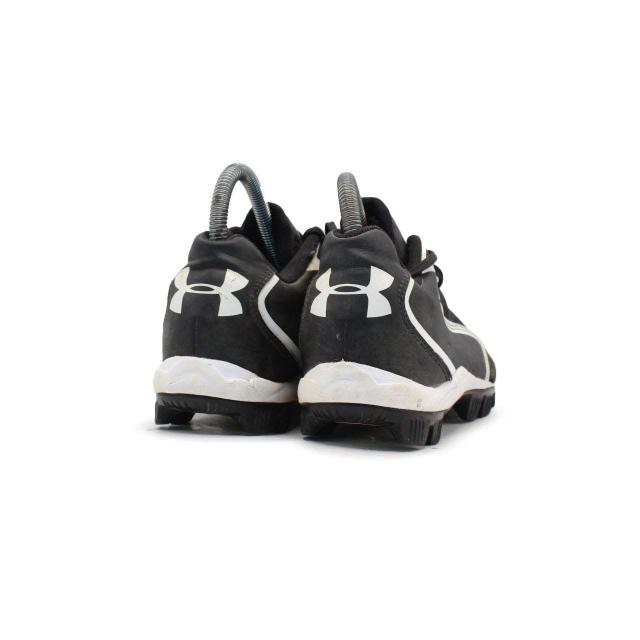heel: (298, 223, 445, 382), (161, 237, 298, 380)
midsole: (293, 359, 498, 452), (155, 354, 295, 429)
